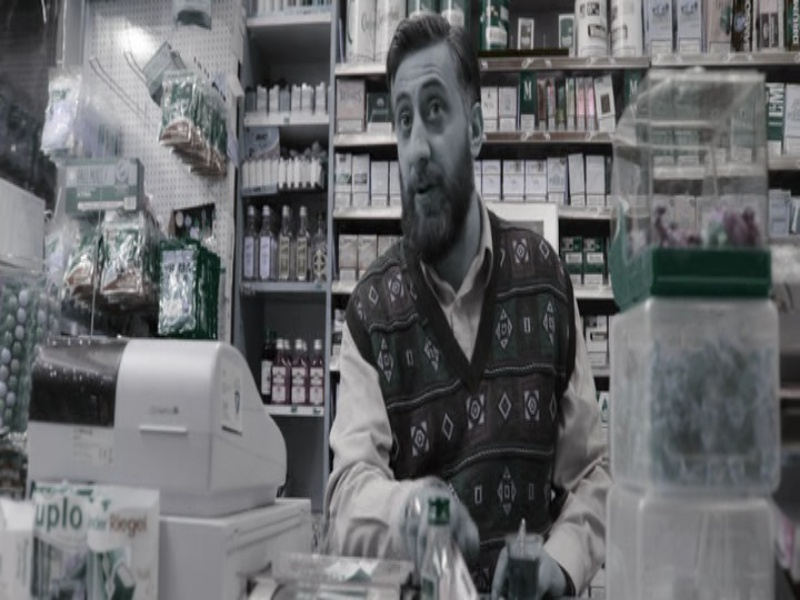TsisyArotava: (367, 29, 485, 266)
